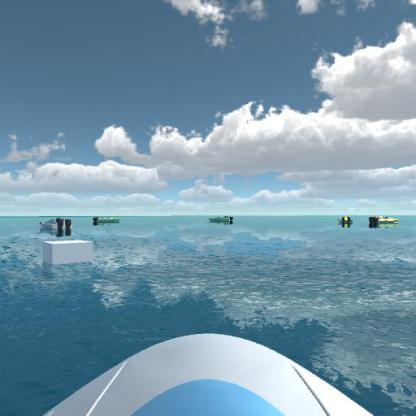usv0: (206, 212, 236, 226), (93, 212, 122, 226)
usv1: (37, 215, 77, 238)
usv2: (369, 210, 403, 232), (336, 211, 356, 228)
